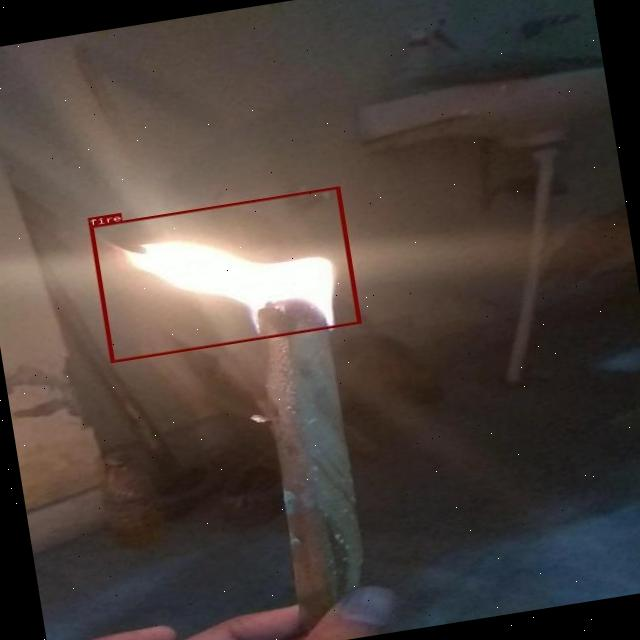fire: (90, 186, 360, 362)
